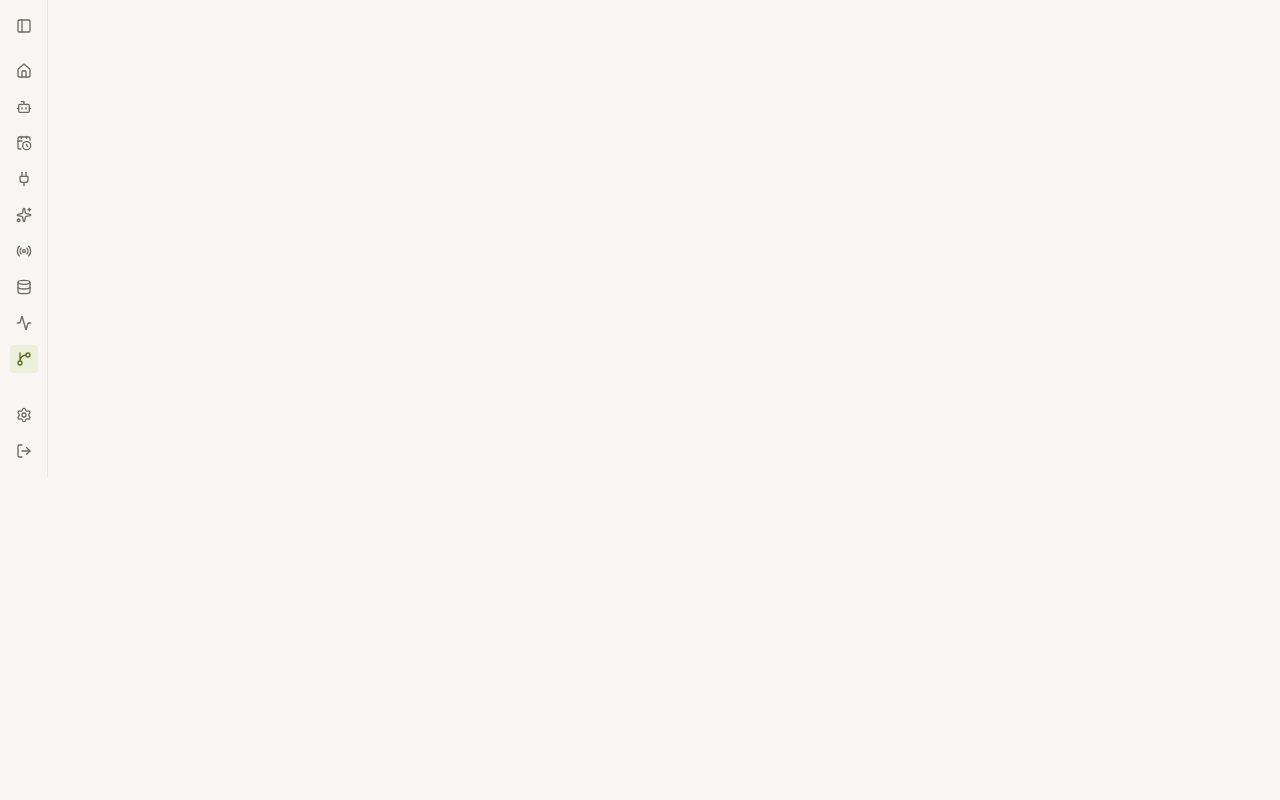
it: DashboardSidebar on mobile › opens the overlay even when the stored desktop preference is collapsed
The width and height of the screenshot is (1280, 800).
What coordinates should you click on to do the following:
click the button titled "Expand sidebar"
I would click on:
 (24, 26)
Its box is top-left (10, 12), bottom-right (38, 40).
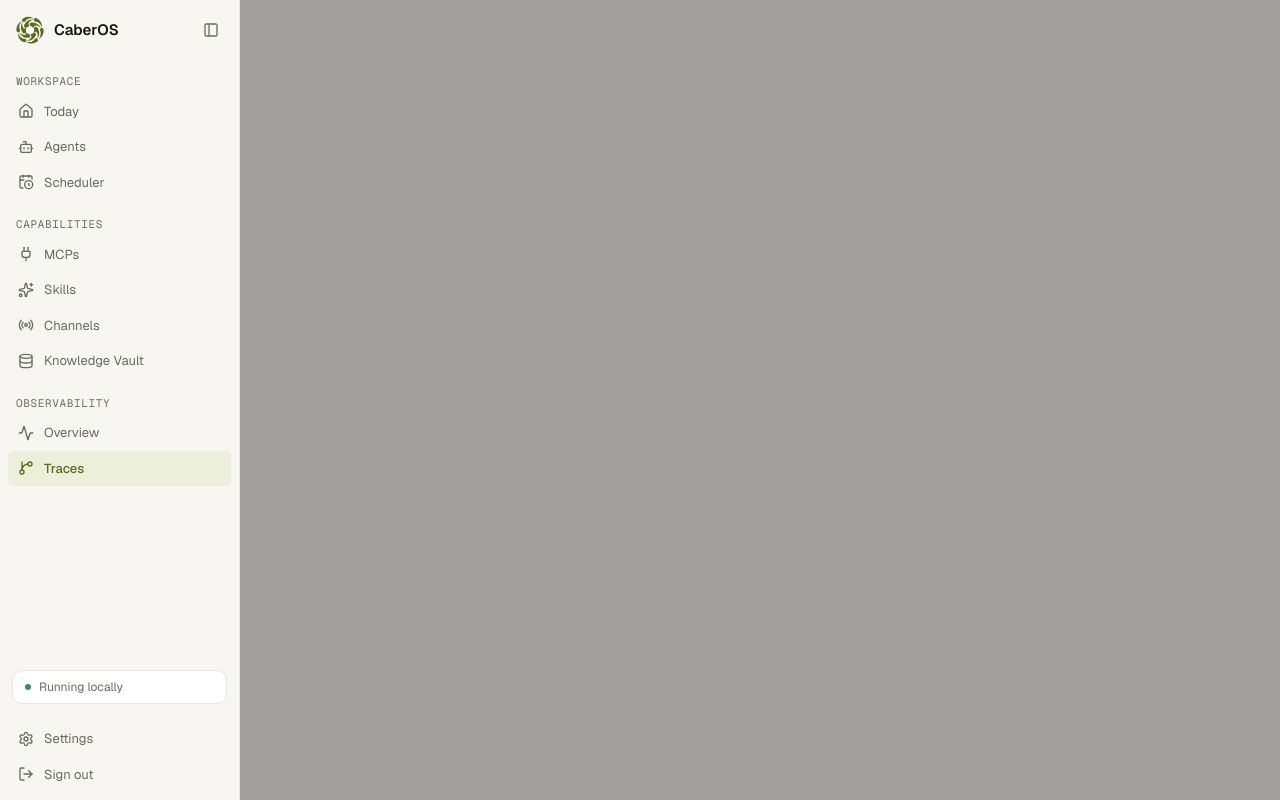
Expected: the element with test id "sidebar-scrim" is shown
Expected: the button titled "Collapse sidebar" is shown, top-left (199, 18), bottom-right (223, 42)
What coordinates should you click on to do the following:
click the element with test id "sidebar-scrim"
I would click on:
 (640, 400)
Its box is top-left (0, 0), bottom-right (1279, 799).
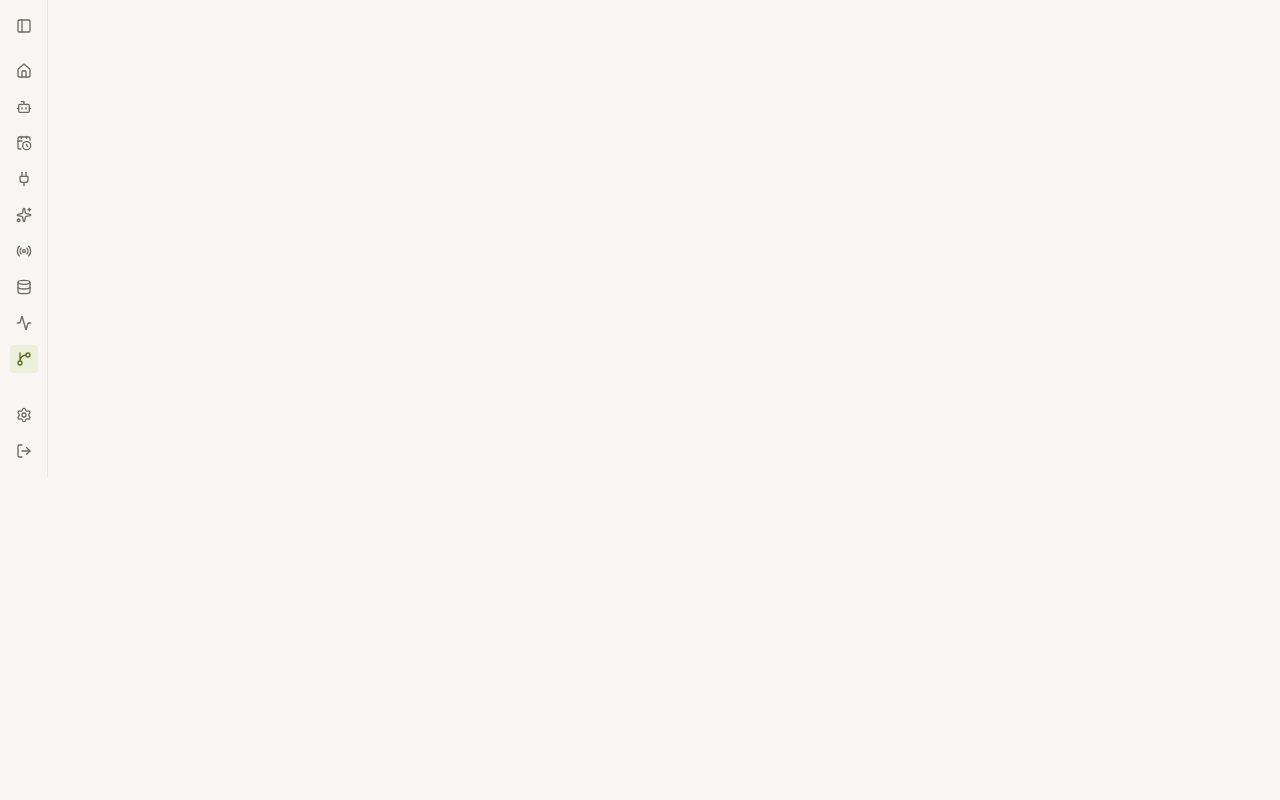
Expected: the element with test id "sidebar-scrim" is gone
